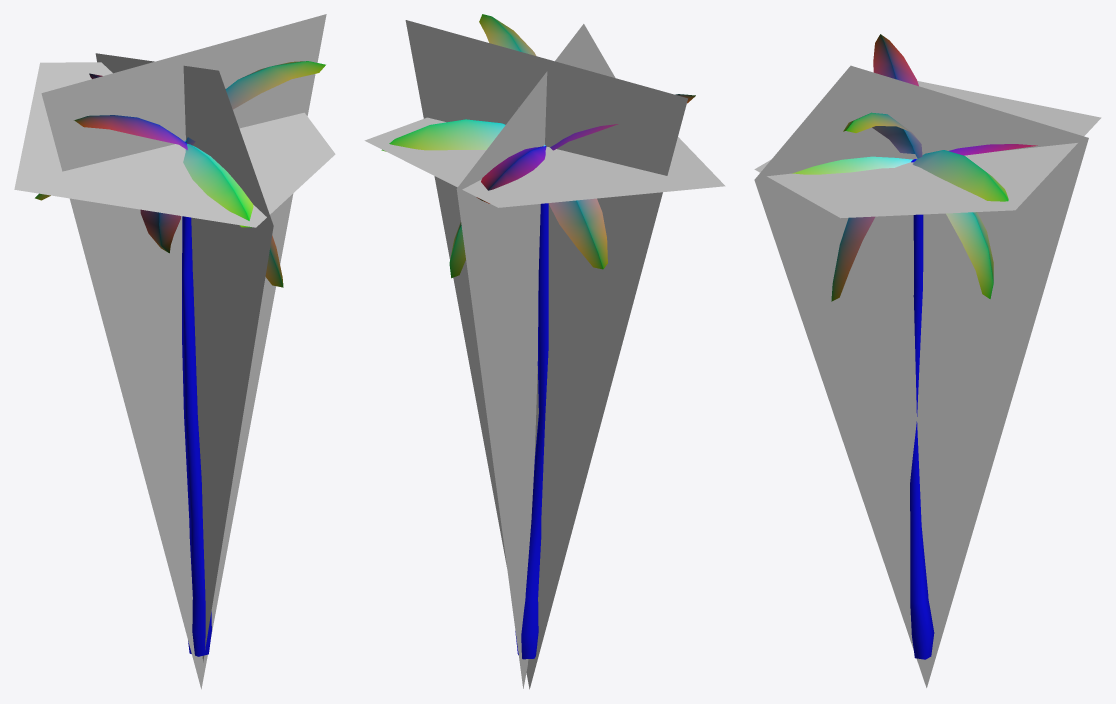
File: Palm_02.fbx
The picture shows the model from 3 angles, left to right: view 1: azimuth 30°, elevation 25°; view 2: azimuth 150°, elevation 25°; view 3: azimuth 270°, elevation 25°; orthographic projection. The views are drawn at different scales.
Parts seen in each view (by area): view 1: Palm_02_billboard, Palm_02; view 2: Palm_02_billboard, Palm_02; view 3: Palm_02_billboard, Palm_02.
Boxes of the visible parts, left/top/right/bottom form: Palm_02_billboard: left=14, top=14, right=335, bottom=689; Palm_02: left=35, top=61, right=325, bottom=656; Palm_02_billboard: left=364, top=20, right=725, bottom=689; Palm_02: left=381, top=14, right=695, bottom=659; Palm_02_billboard: left=754, top=65, right=1101, bottom=687; Palm_02: left=792, top=34, right=1037, bottom=659.
Size of the model in its own units: 274 by 536 by 274.
